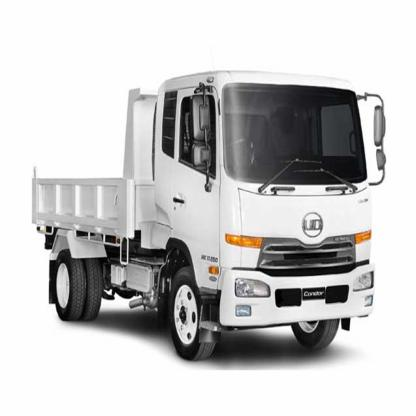dump_truck: (23, 50, 392, 374)
